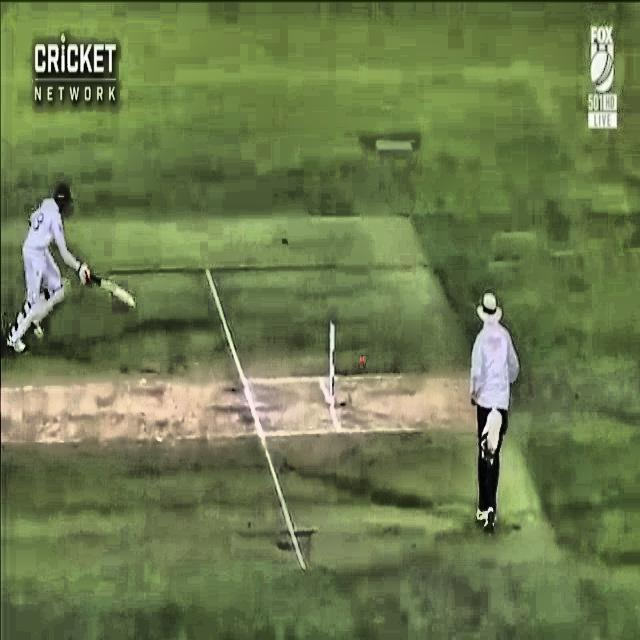Ball: (349, 352, 372, 375)
Bat: (70, 261, 138, 313)
Pitch_Line: (203, 268, 308, 570)
Undis_Wicket: (320, 315, 341, 406)
